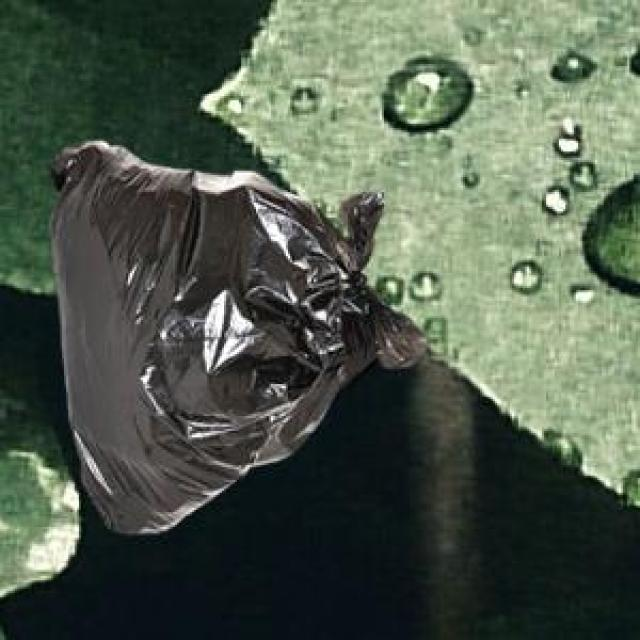waste: (52, 141, 425, 533)
